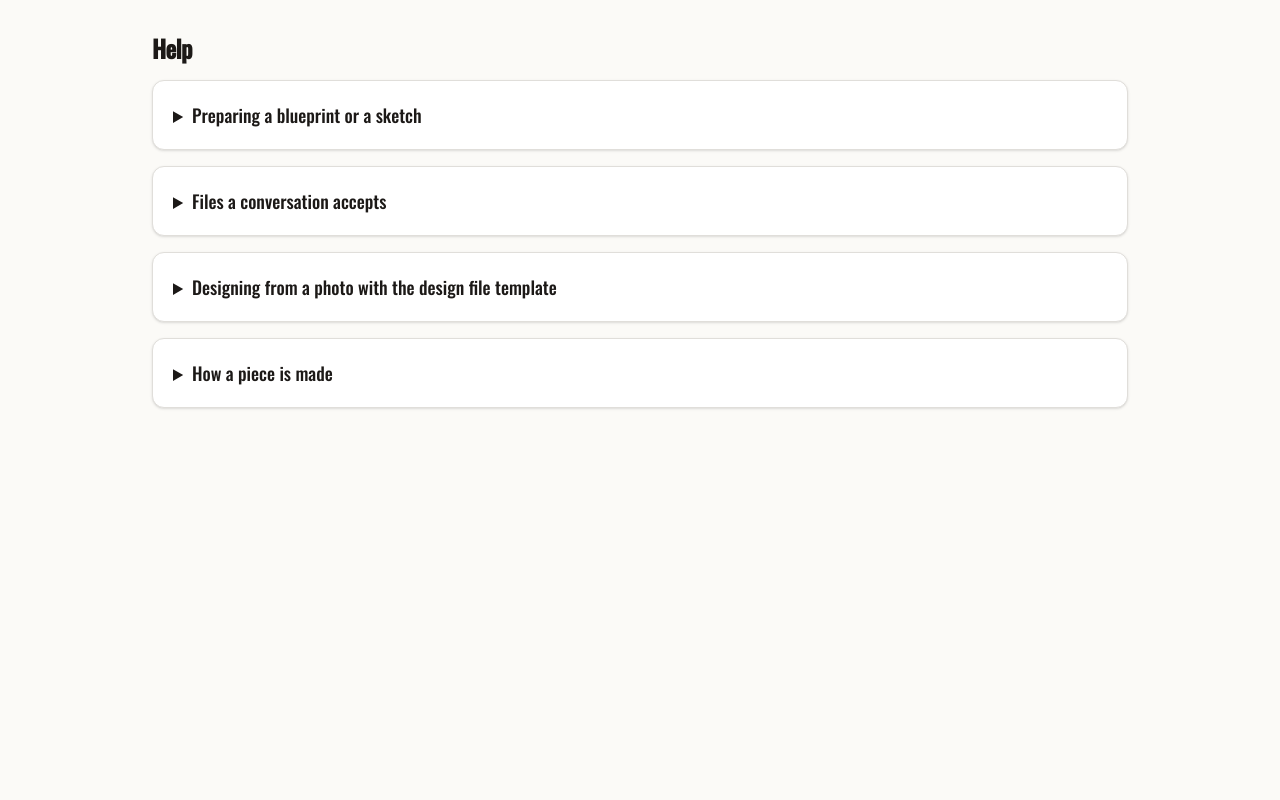
expanding the blueprint topic lists the measurements and leaves the others collapsed
What coordinates should you click on to do the following:
click the heading "Preparing a blueprint or a sketch"
I would click on:
 (307, 115)
Its box is [192,102,422,128].
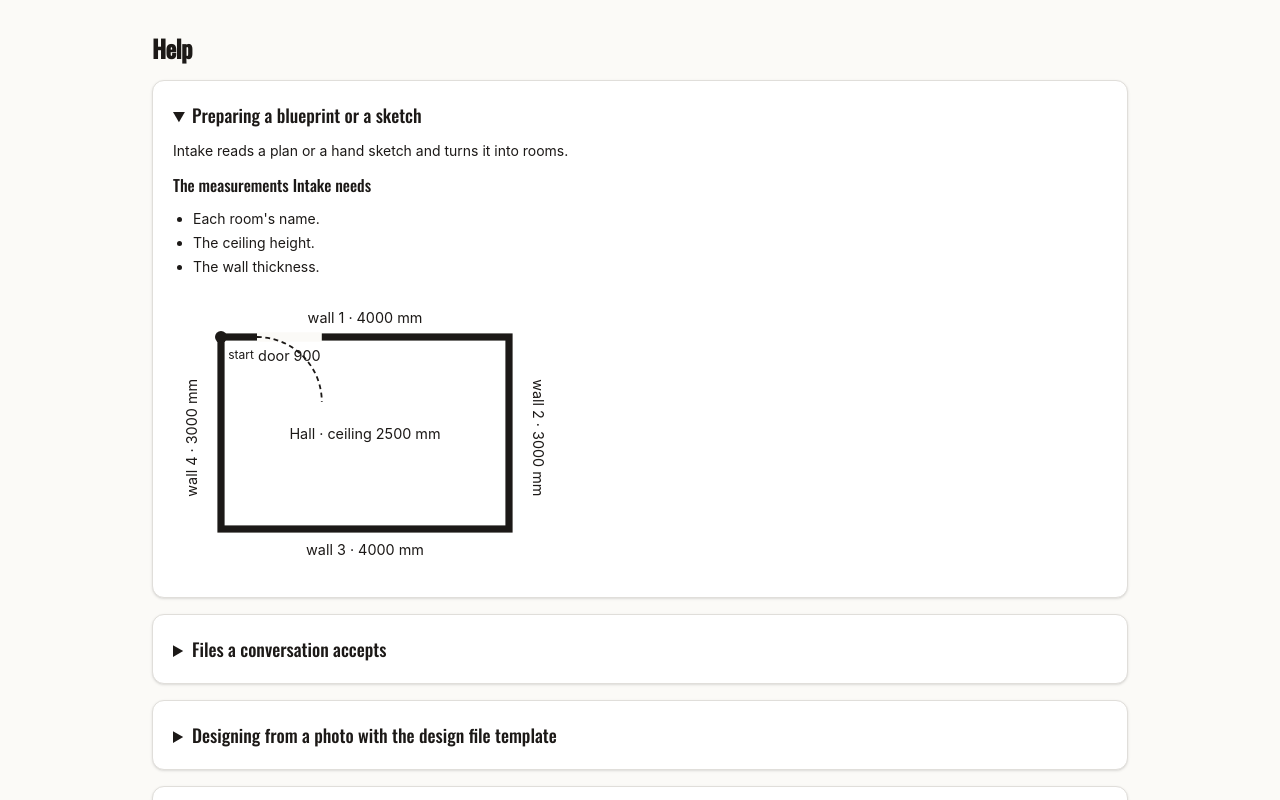
Now the list item "The wall thickness." is shown, box [193,258,320,275]
Now the picture named "Example: a hall" is shown, box [173,289,557,577]
